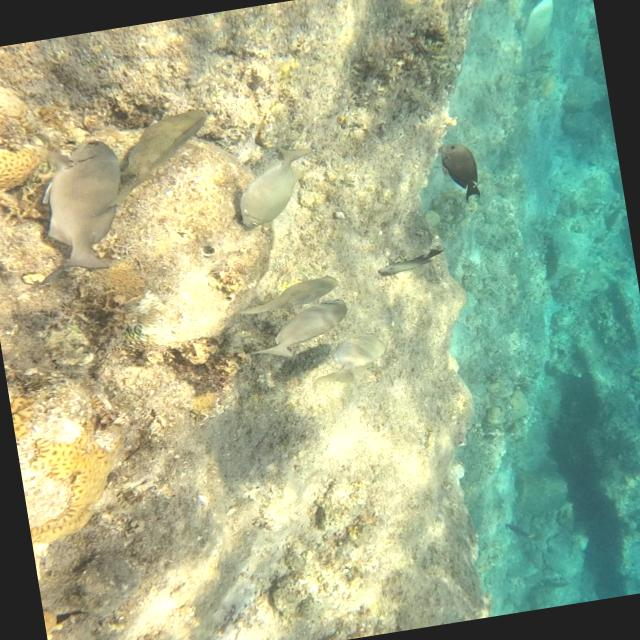Sokar Baligi: (216, 134, 333, 238), (431, 133, 491, 206)
